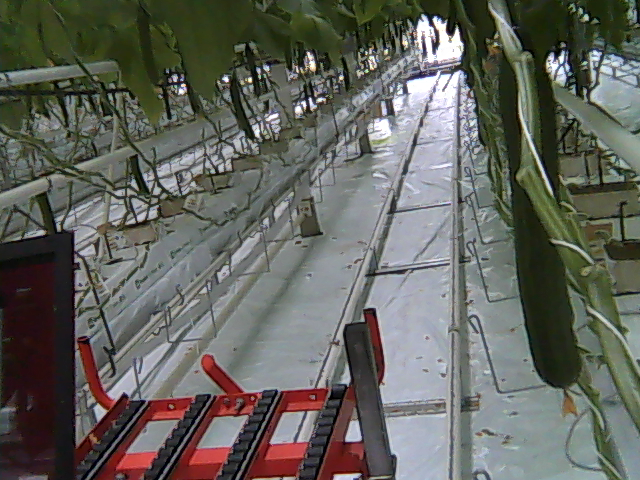concombre: (497, 24, 584, 391)
